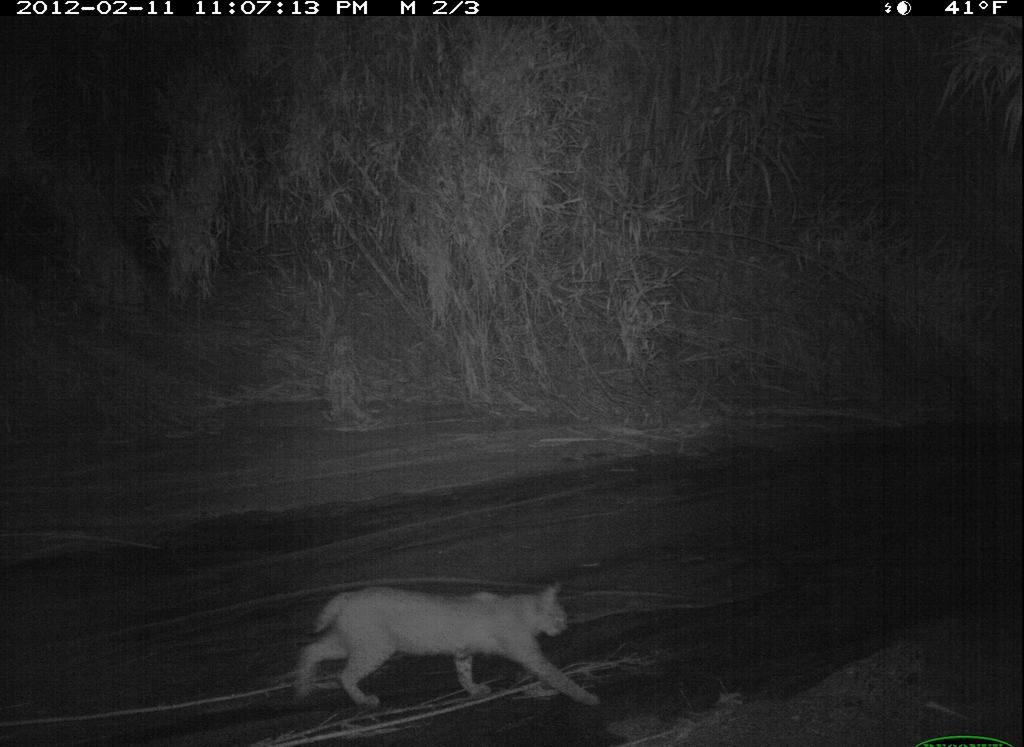bobcat: (290, 566, 609, 717)
